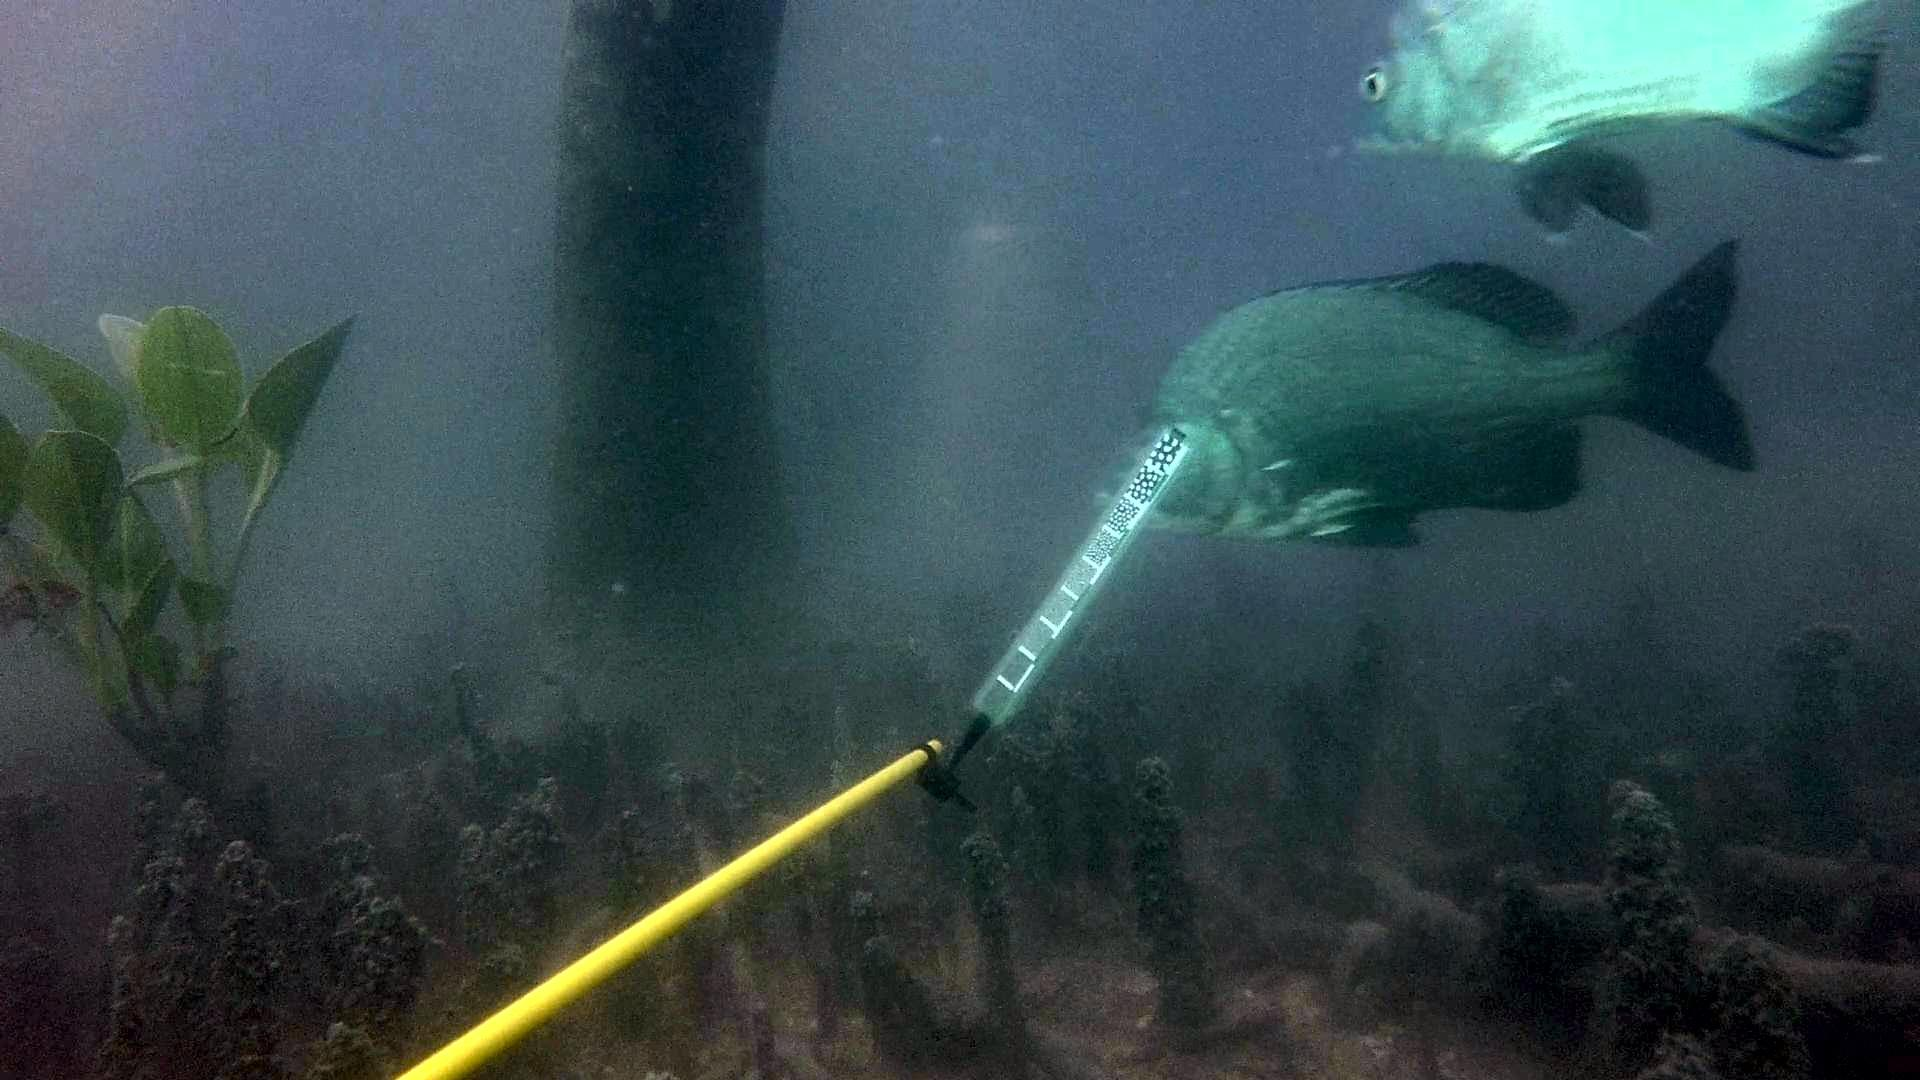acanthopagrus palmaris: (1108, 231, 1793, 570), (1348, 0, 1905, 257)
